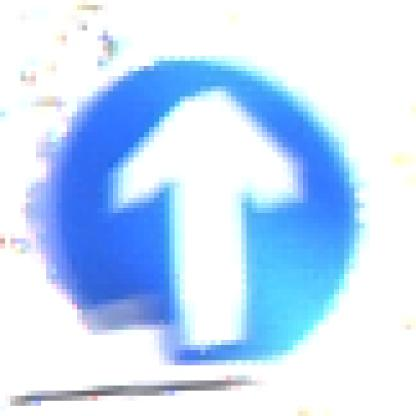AheadOnly: (37, 37, 381, 382)
